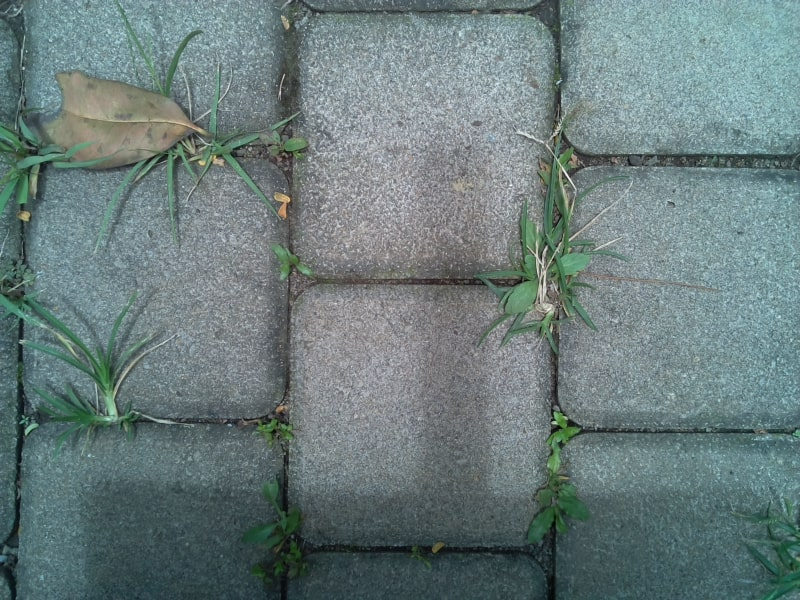Weed: (97, 11, 281, 249), (481, 118, 605, 354), (9, 291, 179, 440), (2, 115, 101, 213), (525, 408, 590, 546), (241, 475, 317, 584), (269, 242, 315, 287), (2, 249, 43, 296), (257, 129, 310, 165), (253, 418, 298, 449), (402, 538, 432, 574)
